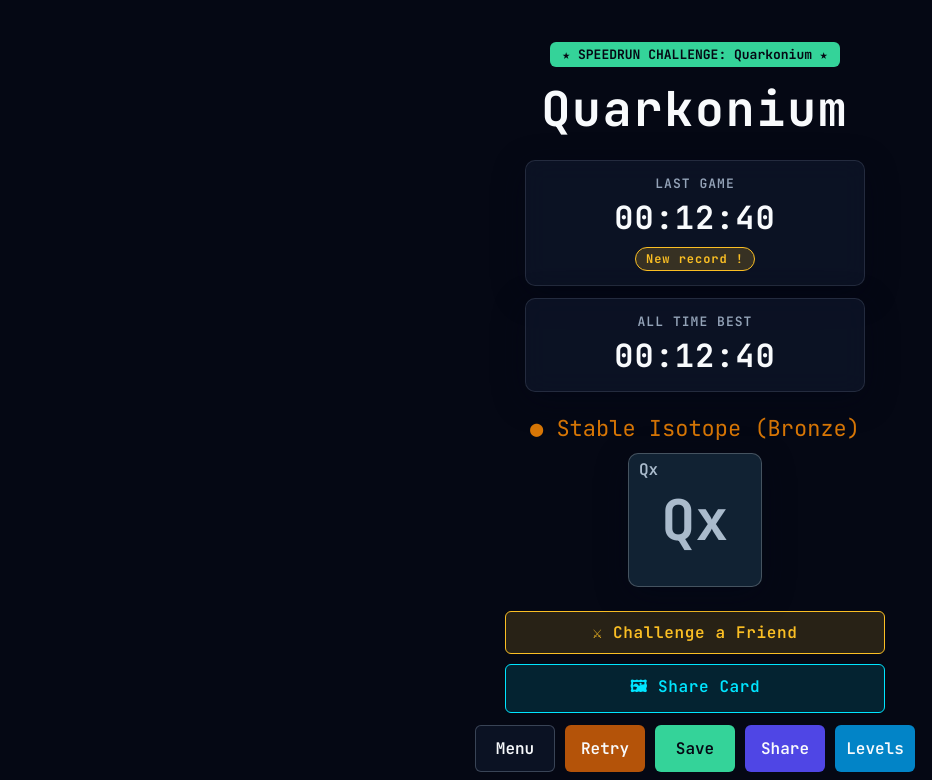
LevelFinished component › Shared custom level mode › clears sharedLevel and navigates to levels when "Levels" is clicked
The image size is (932, 780).
Click the button "Levels" at coordinates (875, 748), box [835,725,915,772]
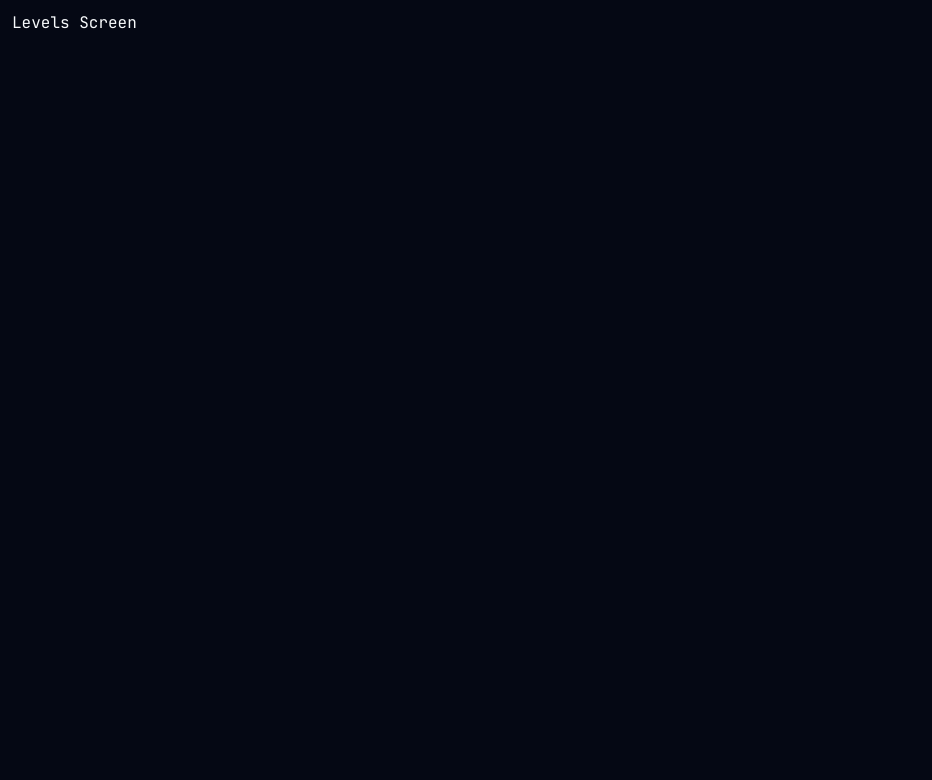
Check: the text "Levels Screen" is shown, box [12,12,137,33]
